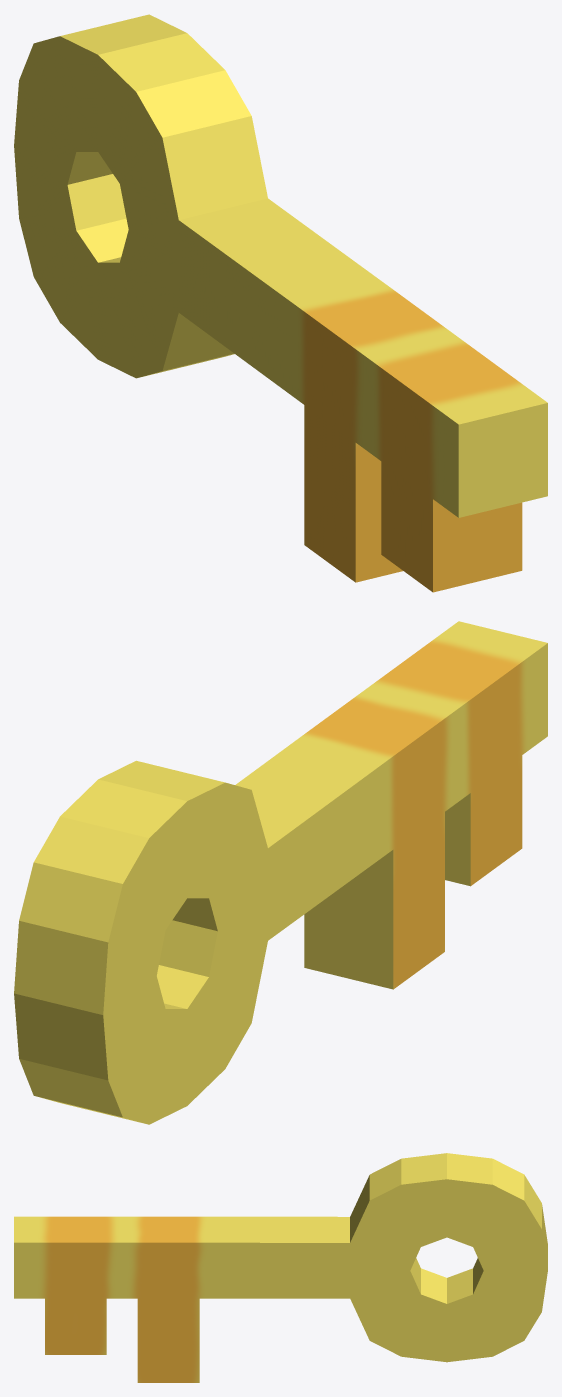
The model's file is basedKey2.fbx.
3 renders of one model, top to bottom at view 1: azimuth 30°, elevation 25°; view 2: azimuth 150°, elevation 25°; view 3: azimuth 270°, elevation 25°, orthographic. The views are drawn at different scales.
Parts seen in each view (by area): view 1: Cube; view 2: Cube; view 3: Cube.
Boxes of the visible parts, box(x1,y1,x2,y2) form: Cube: box(14, 14, 547, 592); Cube: box(14, 621, 547, 1124); Cube: box(14, 1153, 547, 1382).
Size of the model in its own units: 200 by 726 by 1726.
